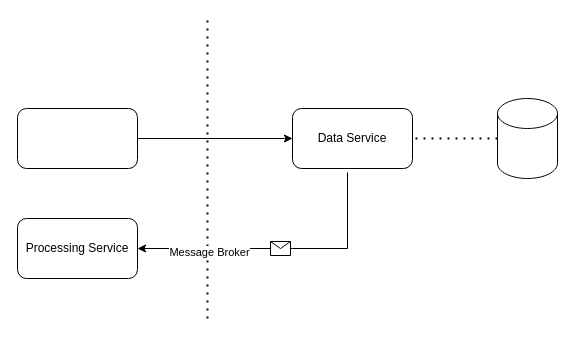
The diagram is 575 pixels wide and 337 high, and some of its shapes have lost their labels. The shapes that lost their labels are listed below. From the top down, each one's centre as x and y in pixels, then its label:
At (x=77, y=138): "Subscription Service".
At (x=527, y=138): "NoSQL DB".
